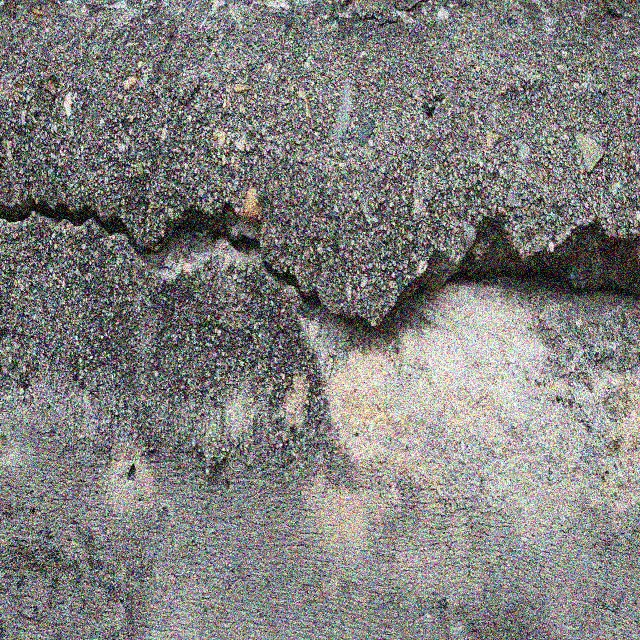SurfaceCrack: (1, 165, 639, 528)
